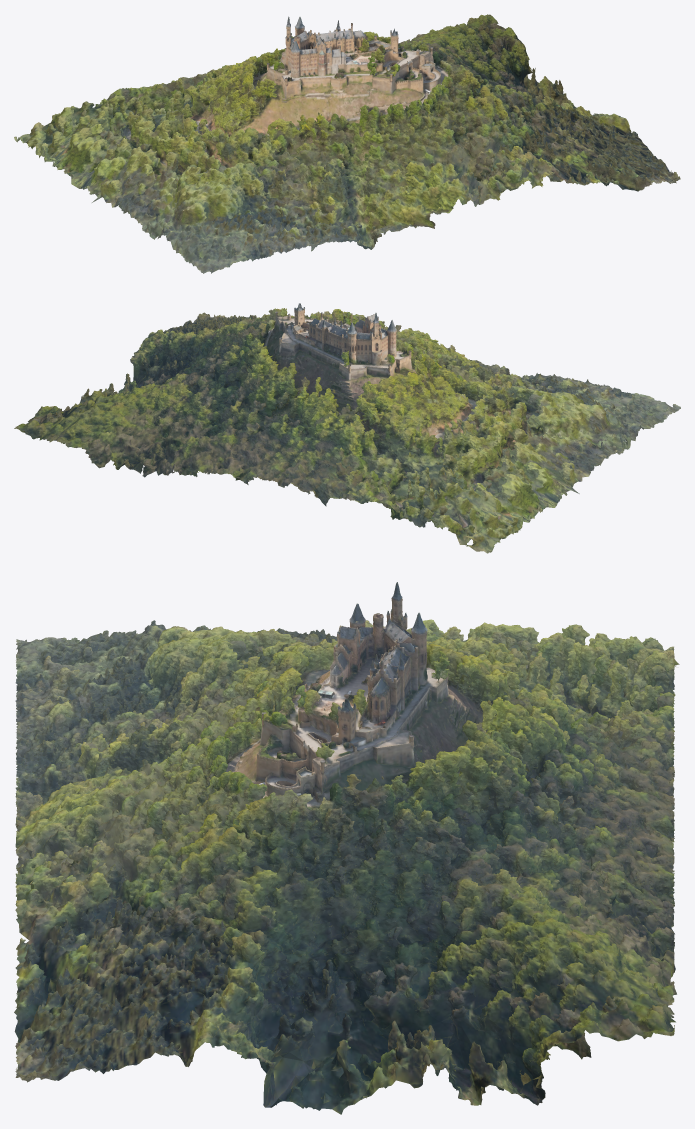
Rendered from burg_hohenzollern.glb.
3 views of the same model, one above another, from view 1: azimuth 30°, elevation 25°; view 2: azimuth 150°, elevation 25°; view 3: azimuth 270°, elevation 25° (orthographic). The views are drawn at different scales.
Parts seen in each view (by area): view 1: Object_3, Object_2, Object_6, Object_9, Object_10, Object_4, Object_5, Object_11, Object_7, Object_14, Object_8, Object_15 (+2 smaller); view 2: Object_12, Object_3, Object_13, Object_5, Object_4, Object_6, Object_14, Object_11, Object_9, Object_10, Object_7, Object_8 (+2 smaller); view 3: Object_14, Object_8, Object_2, Object_7, Object_12, Object_9, Object_10, Object_6, Object_3, Object_11, Object_15, Object_13 (+2 smaller).
Part boxes in pixels (x1,y1,x2,y2): Object_3: (17,63,558,253); Object_2: (263,16,585,171); Object_6: (23,20,433,239); Object_9: (186,41,680,215); Object_10: (178,58,638,273); Object_4: (18,84,298,247); Object_5: (14,91,297,243); Object_11: (194,35,560,216); Object_7: (249,31,501,219); Object_14: (406,14,631,135); Object_8: (181,28,607,261); Object_15: (291,30,585,127); Object_12: (95,373,418,503); Object_3: (255,308,653,550); Object_13: (88,377,417,506); Object_5: (400,382,646,553); Object_4: (351,382,649,543); Object_6: (266,312,646,542); Object_14: (14,326,392,478); Object_11: (109,309,524,484); Object_9: (158,312,475,449); Object_10: (185,313,680,438); Object_7: (153,307,523,399); Object_8: (166,303,662,423); Object_14: (176,722,675,1114); Object_8: (15,634,515,1007); Object_2: (77,582,479,973); Object_7: (86,652,513,951); Object_12: (491,693,674,977); Object_9: (14,643,507,1082); Object_10: (14,630,487,1031); Object_6: (97,609,643,814); Object_3: (48,620,674,935); Object_11: (15,655,674,975); Object_15: (176,604,676,1063); Object_13: (490,660,676,993).
Size of the model in its own units: 537 by 182 by 372.
1 material, 1 textured.
